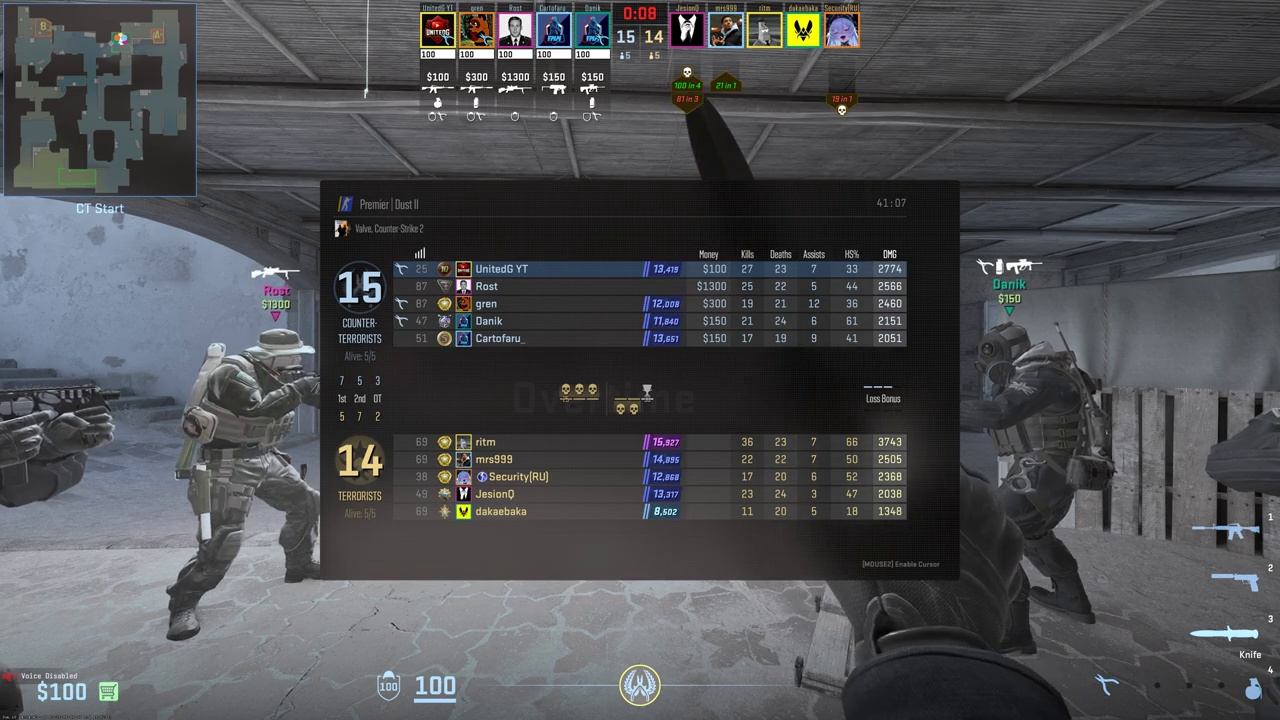CT: (170, 328, 322, 634), (971, 322, 1101, 622)
